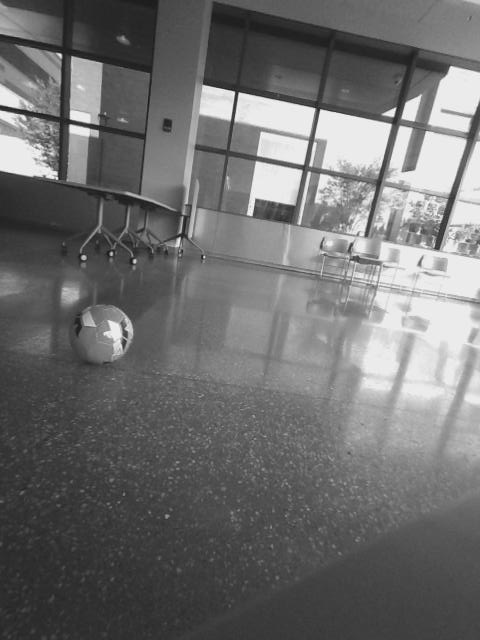ball: (67, 299, 140, 369)
